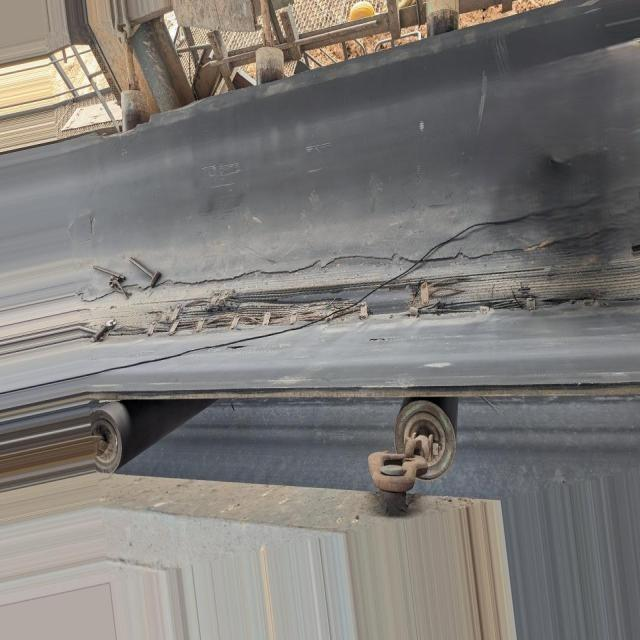Tear: (82, 246, 578, 336)
